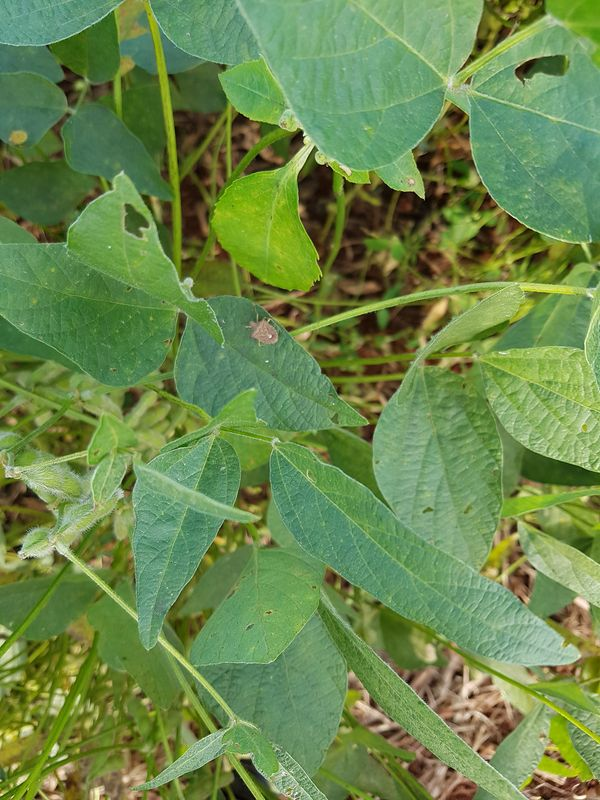Euschistus_heros_adulto: (241, 310, 283, 352)
Euschistus_heros_ninfa: (5, 126, 32, 151)
